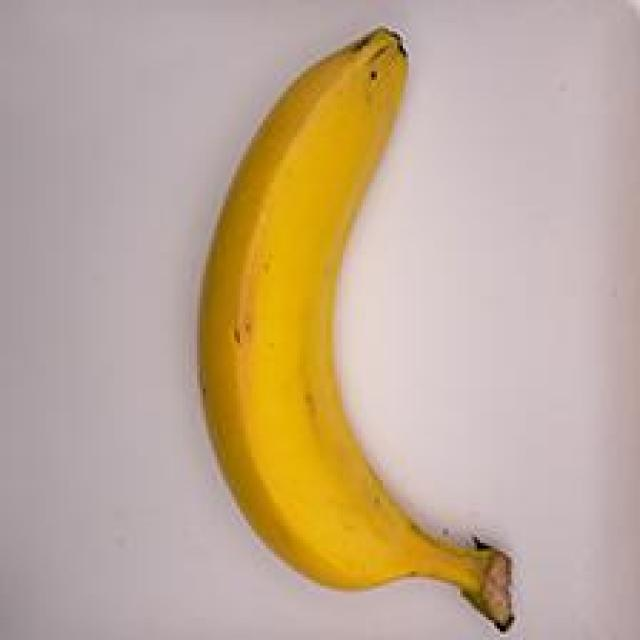Ripe: (167, 21, 545, 640)
